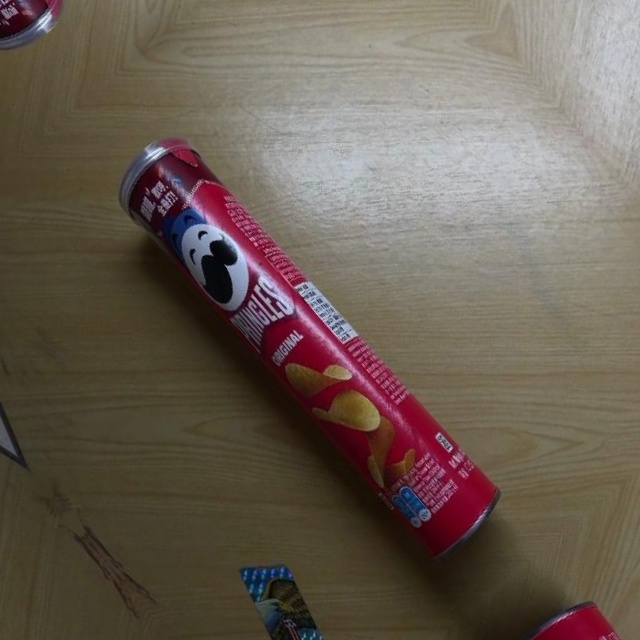Pringles: (102, 112, 513, 572)
